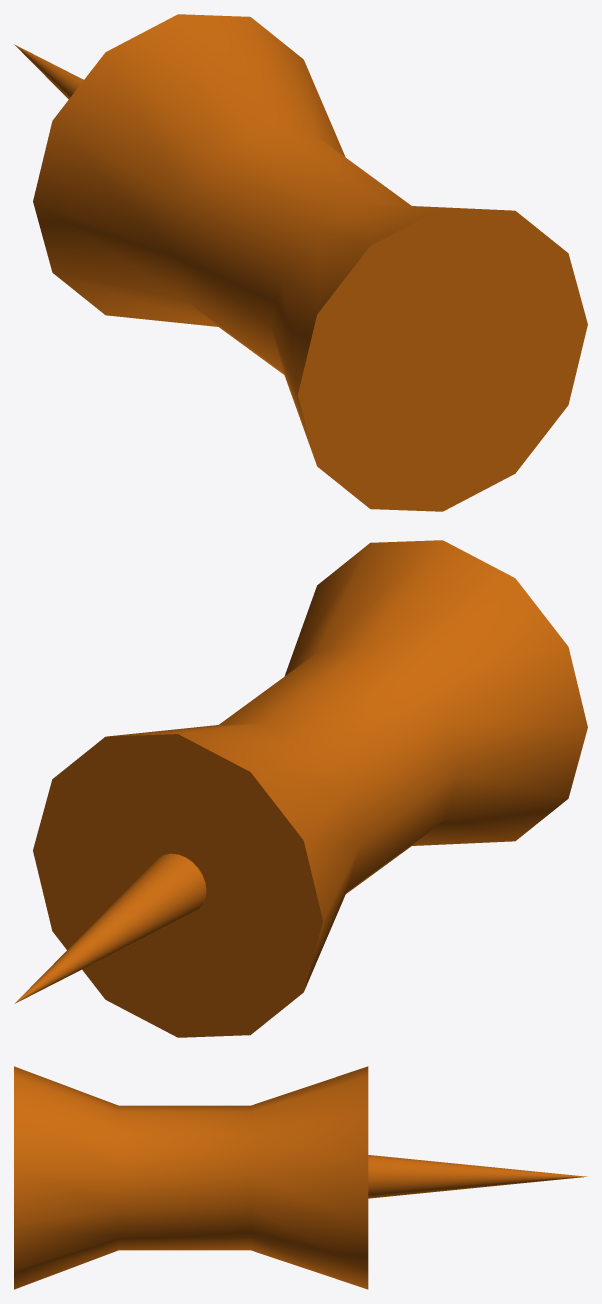
File: Yellow Pin.FBX
The picture shows the model from 3 angles, top to bottom: view 1: azimuth 30°, elevation 25°; view 2: azimuth 150°, elevation 25°; view 3: azimuth 270°, elevation 25°; orthographic projection. The views are drawn at different scales.
Parts seen in each view (by area): view 1: Pin001, Pin Gold; view 2: Pin001, Pin Gold; view 3: Pin001, Pin Gold.
Boxes of the visible parts, left/top/right/bottom form: Pin001: left=33, top=14, right=587, bottom=511; Pin Gold: left=14, top=44, right=83, bottom=99; Pin001: left=33, top=540, right=587, bottom=1037; Pin Gold: left=14, top=853, right=206, bottom=1003; Pin001: left=14, top=1066, right=368, bottom=1289; Pin Gold: left=368, top=1155, right=586, bottom=1198.
Bounding box in the file's own units: 0.01 × 0.01 × 0.0256.
